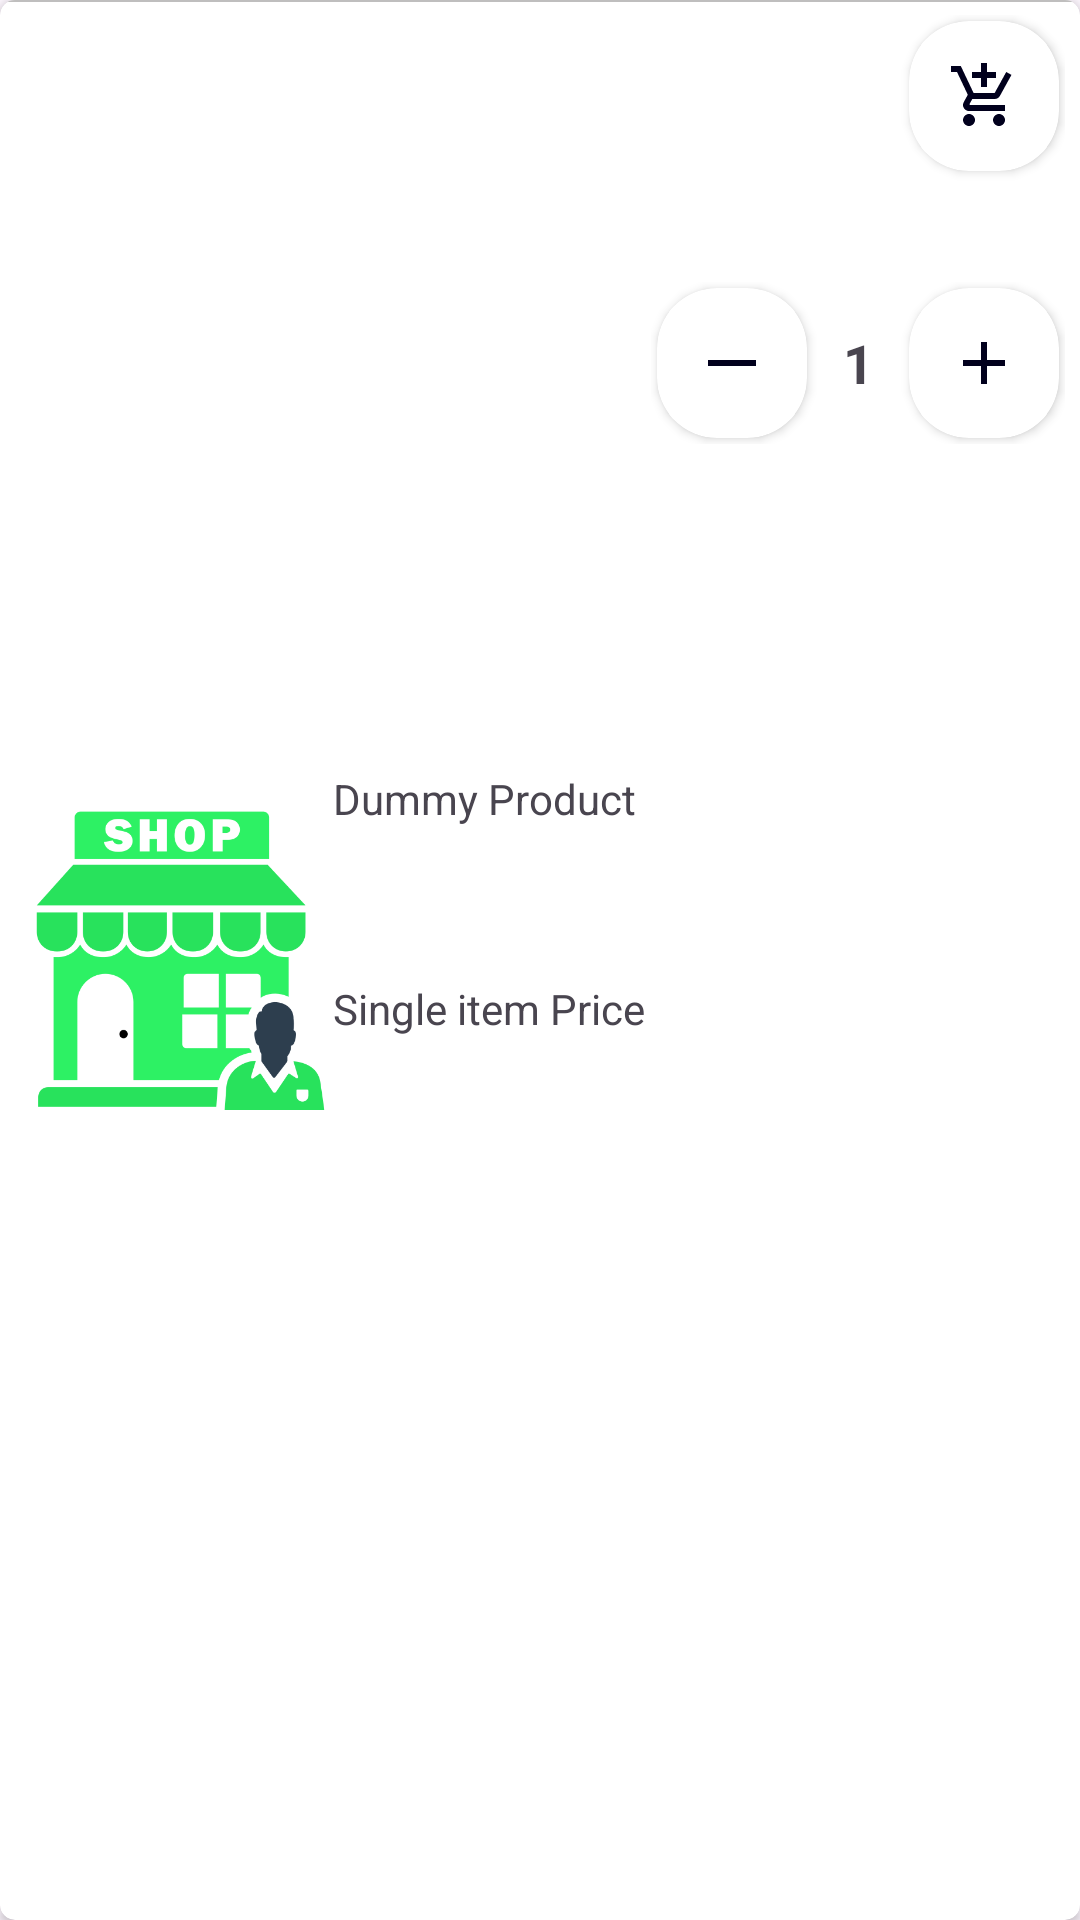

Screen size 1080*1920. Icon name, then its center in pixels as (x,y):
addcart: (1005,108)
minus: (745,388)
plus: (1008,377)
